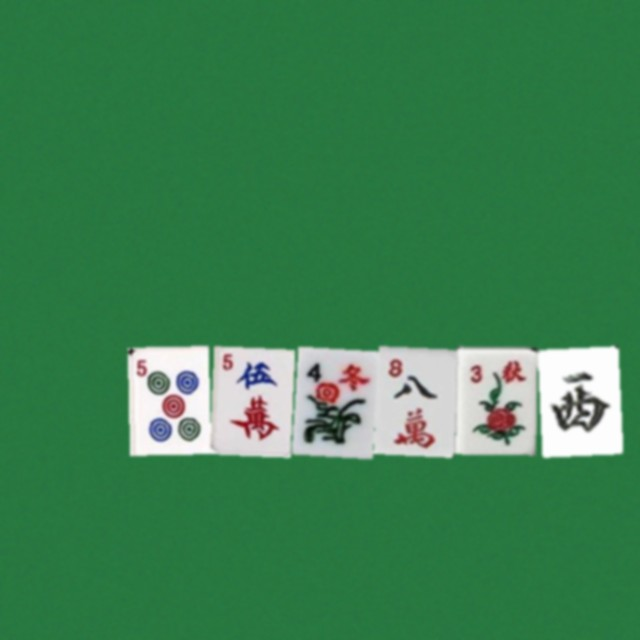tile: (127, 346, 208, 454), (209, 346, 290, 454), (291, 346, 372, 454), (373, 346, 454, 454), (455, 346, 536, 454), (537, 346, 618, 454)
